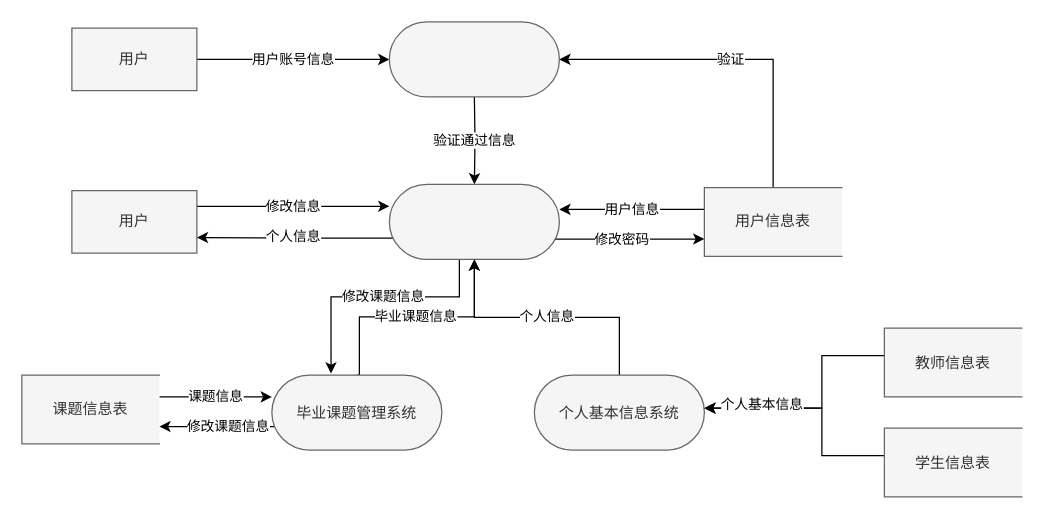
Image size: 1044x519. Some labels were removed from this diagram. Here are the shapes that lost their labels. From the top down, the centre of each, then its label:
At (473,59): "用户登录验证系统".
At (473,221): "毕业设计管理系统".
